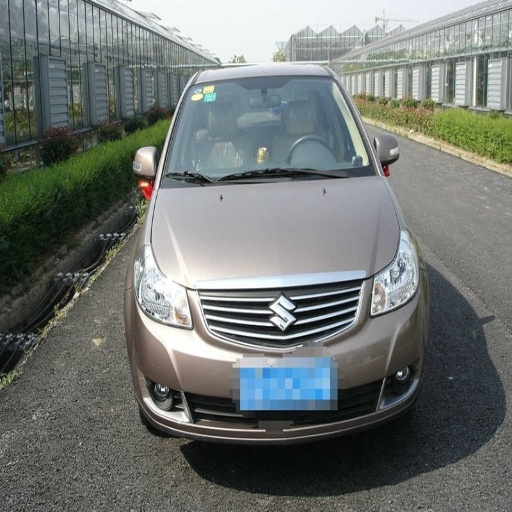front_bumper: (137, 277, 420, 444)
front_right_light: (135, 244, 193, 329)
hood: (151, 175, 398, 341)
